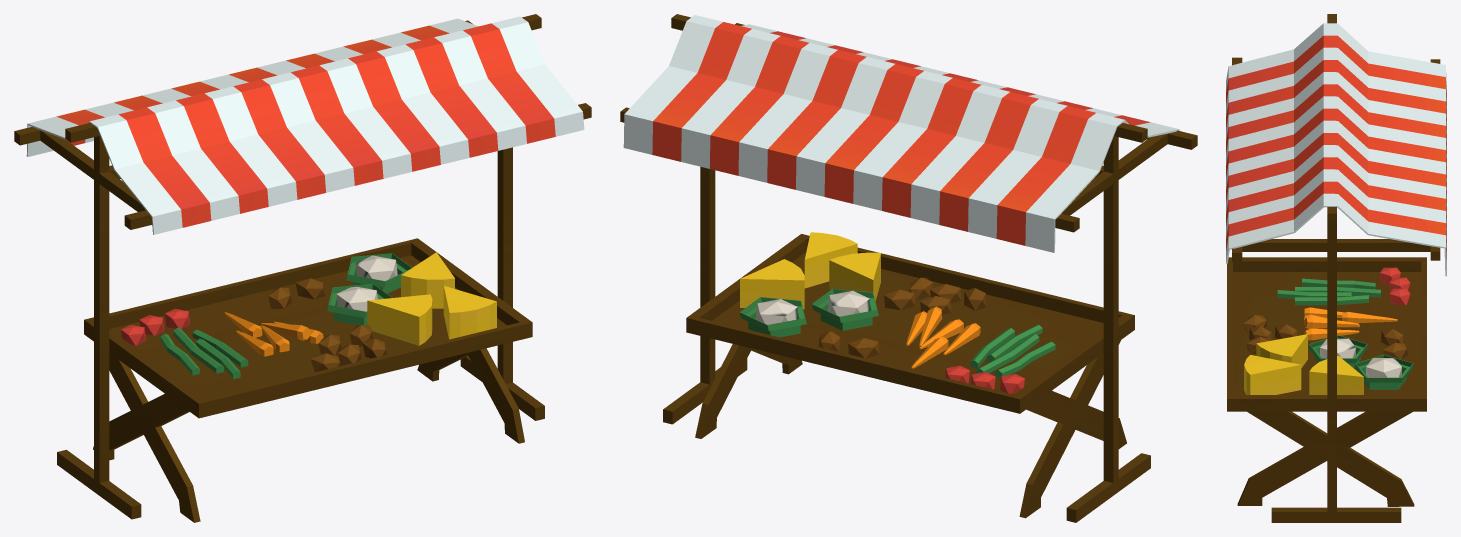
Rendered from Stall_2.fbx.
3 views of the same model, side by side, from view 1: azimuth 30°, elevation 25°; view 2: azimuth 150°, elevation 25°; view 3: azimuth 270°, elevation 25° (orthographic). The views are drawn at different scales.
Visible parts, largest first — view 1: Stall_2; view 2: Stall_2; view 3: Stall_2.
Part boxes in pixels (x1=…): Stall_2: x1=14, y1=14, x2=591, y2=522; Stall_2: x1=620, y1=14, x2=1197, y2=522; Stall_2: x1=1226, y1=14, x2=1446, y2=522.
Bounding box in the file's own units: 0.9424 × 0.7119 × 0.441.
